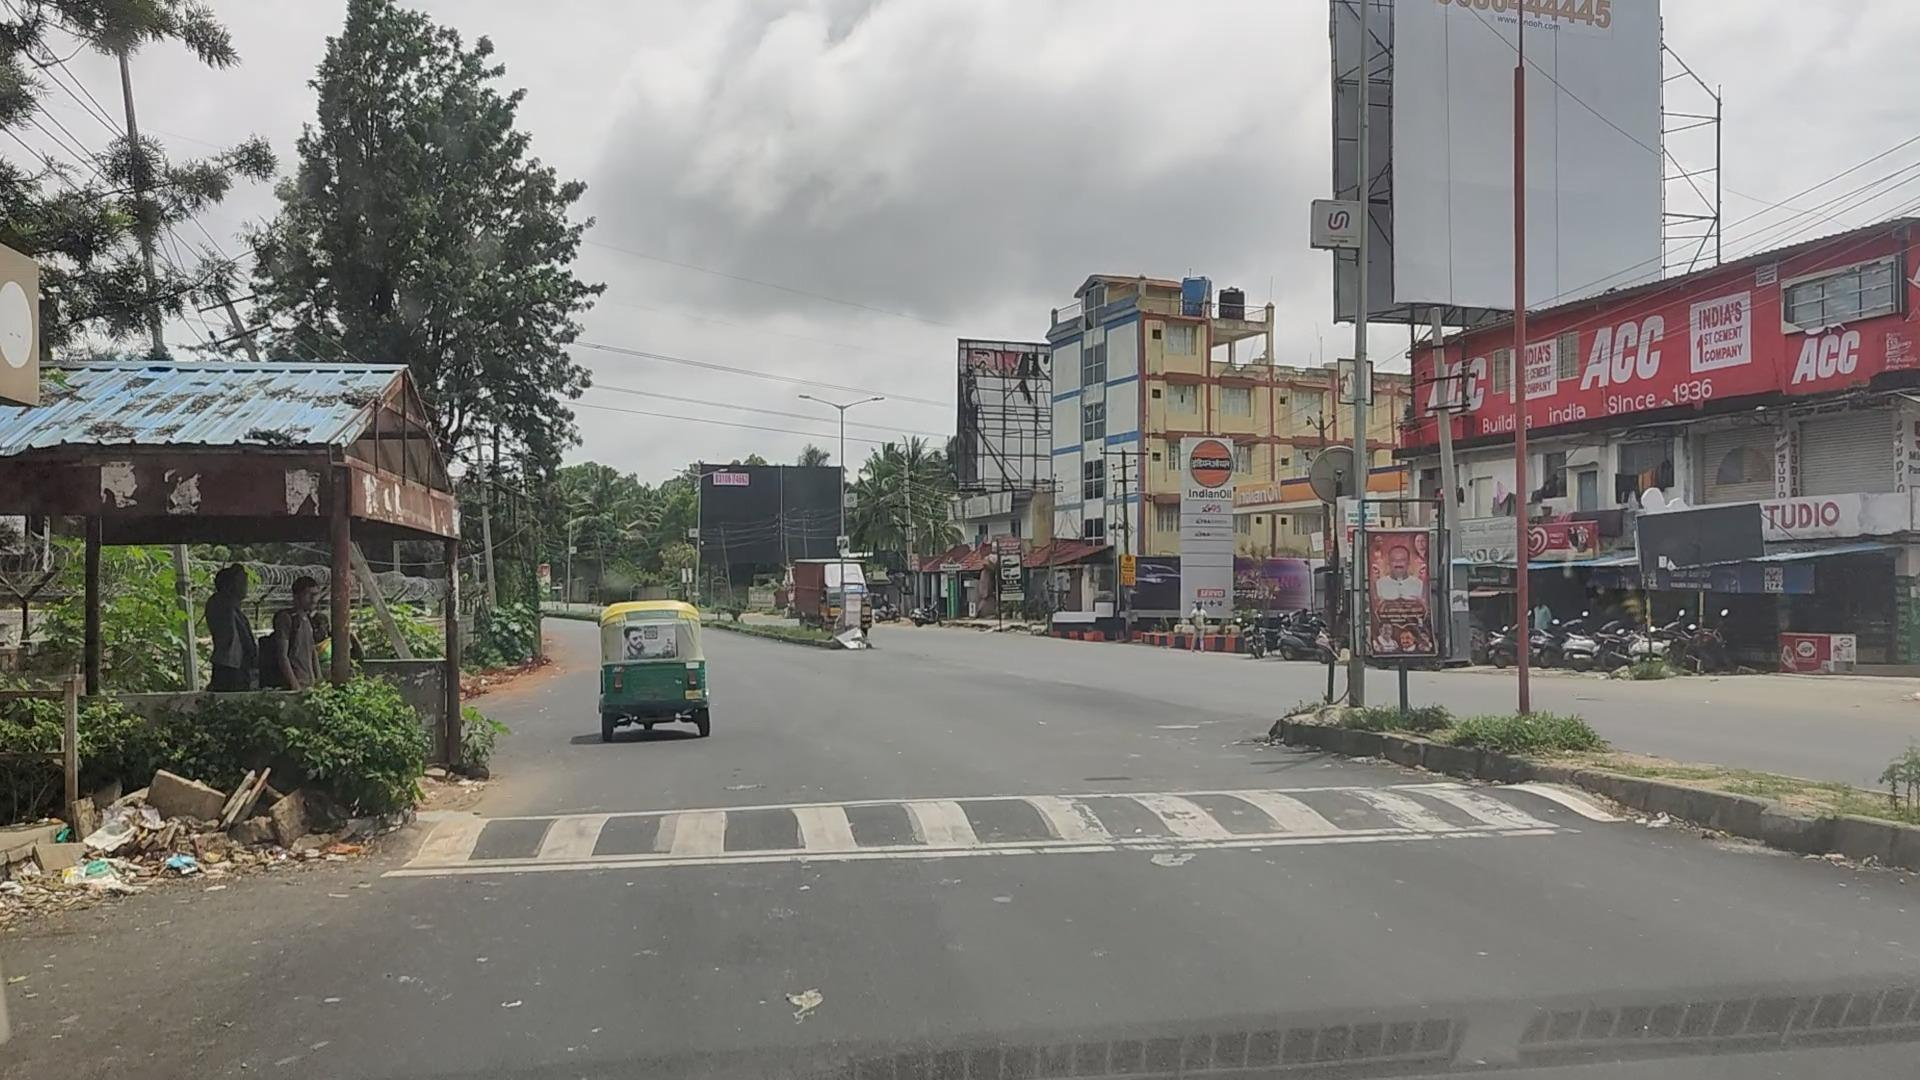LMV: (603, 604, 713, 731)
SpeedBump: (447, 782, 1592, 869)
